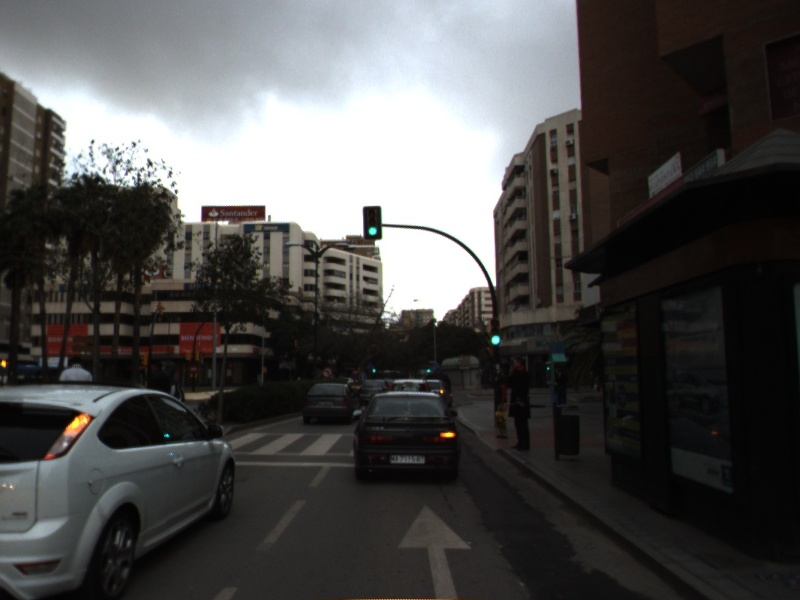STRAIGHT: (393, 500, 475, 600)
